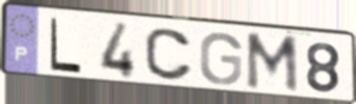4: (97, 20, 138, 80)
8: (304, 41, 343, 94)
C: (142, 26, 196, 83)
G: (197, 31, 244, 87)
L: (48, 16, 84, 76)
M: (244, 31, 301, 96)
